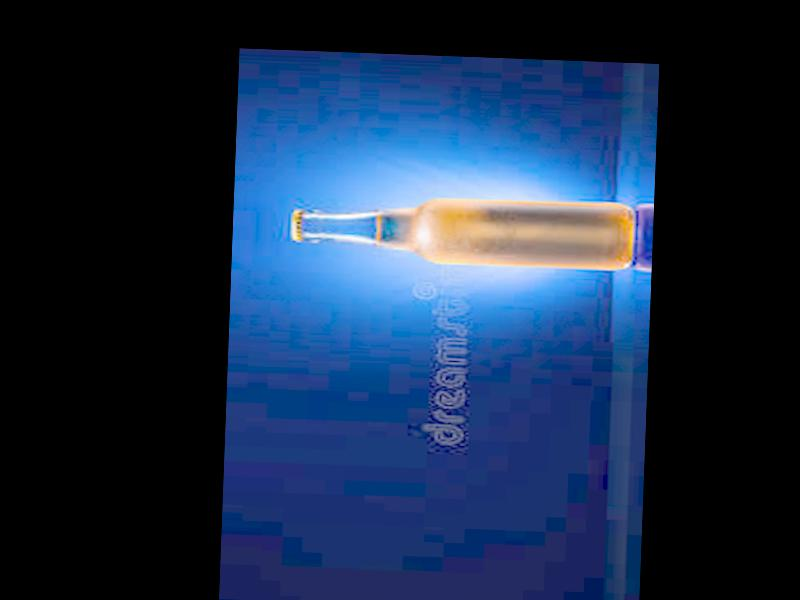Beer: (290, 188, 634, 272)
